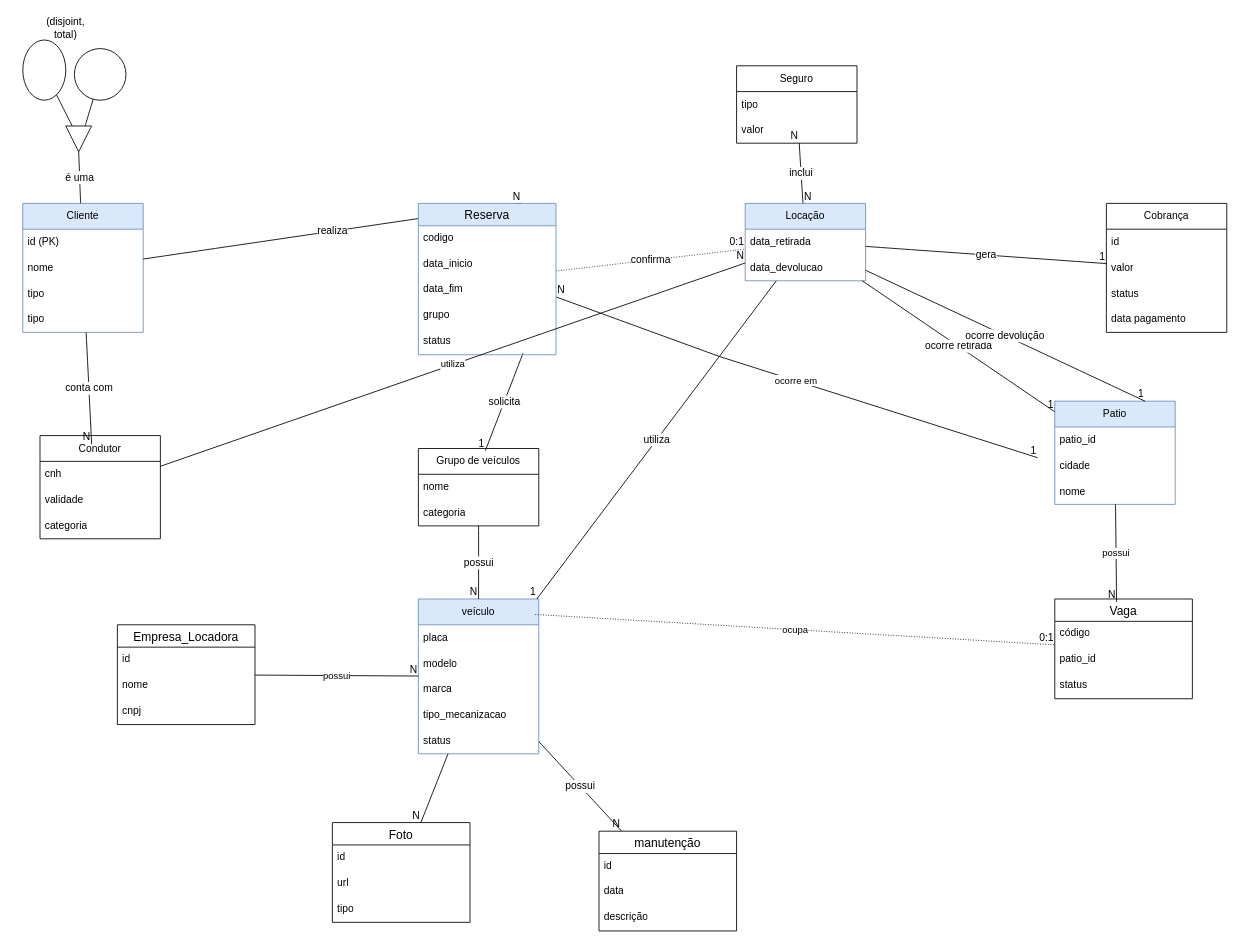
Image size: 1242x948. Some labels were removed from this diagram. The shapes that lost their labels are listed below. From the top down, each one's centre as x and y in pixels, then its label:
At (x=44, y=69): "pessoa Física".
At (x=100, y=74): "pessoa Jurídica".
